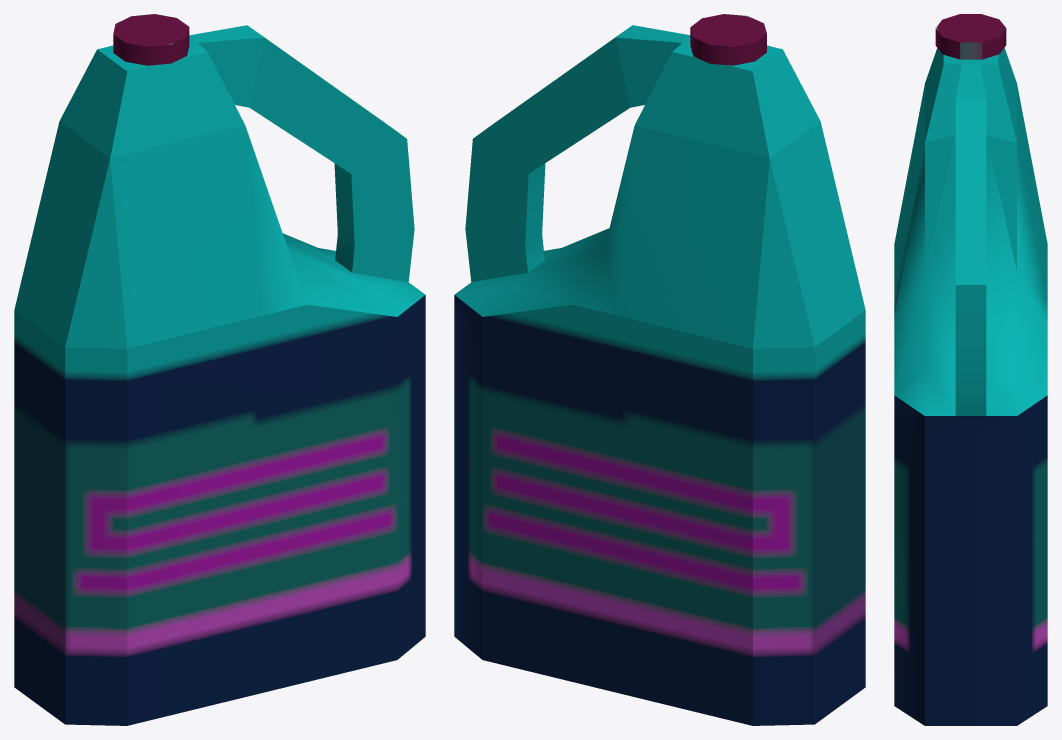
Rendered from clean_bootle.fbx.
3 renders of one model, left to right at view 1: azimuth 30°, elevation 25°; view 2: azimuth 150°, elevation 25°; view 3: azimuth 270°, elevation 25°, orthographic. The views are drawn at different scales.
Visible parts, largest first — view 1: clean_bottle; view 2: clean_bottle; view 3: clean_bottle.
Boxes of the visible parts, x1,y1,x2,y2 form: clean_bottle: (14, 14, 425, 725); clean_bottle: (454, 14, 865, 725); clean_bottle: (894, 14, 1047, 725).
Bounding box in the file's own units: 28.41 × 48.04 × 11.37.
